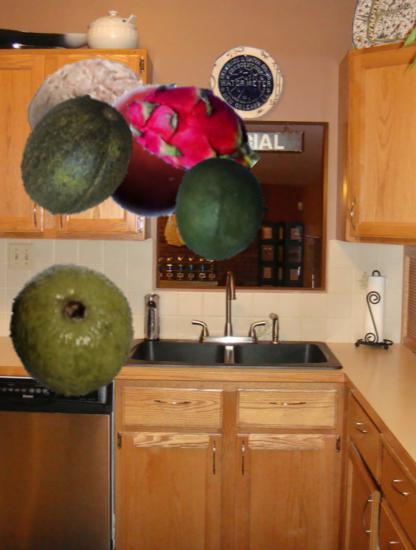Guava: (4, 262, 141, 399)
Mango: (168, 157, 274, 263)
Melon: (16, 95, 141, 220)
Pitahaya: (125, 65, 260, 200)
Tamarillo: (83, 83, 230, 230)
Walnut: (25, 55, 164, 194)
